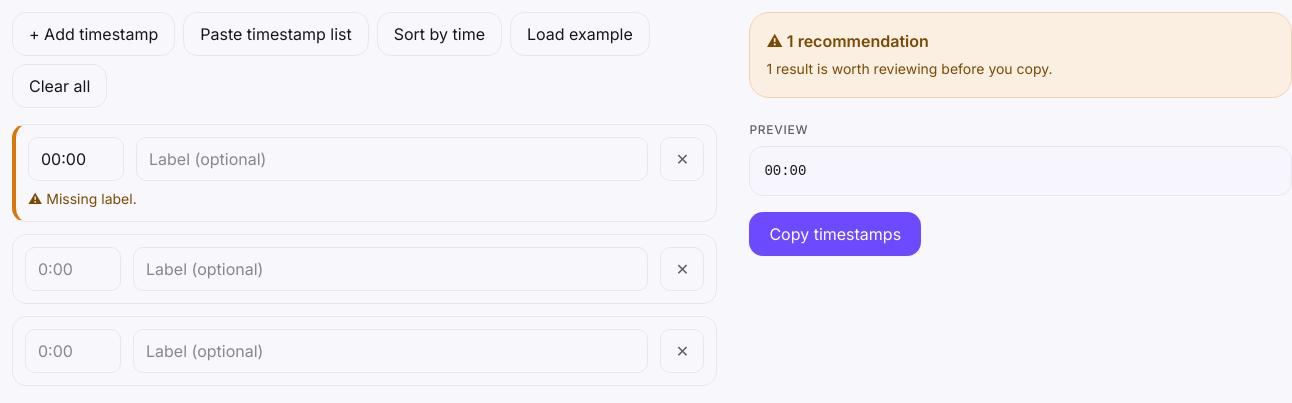
Test: YoutubeTimestampGenerator › removes a row
This screenshot has width=1292, height=403.
Click the button named "Remove row 3".
click(682, 351)  # box [660, 329, 704, 373]
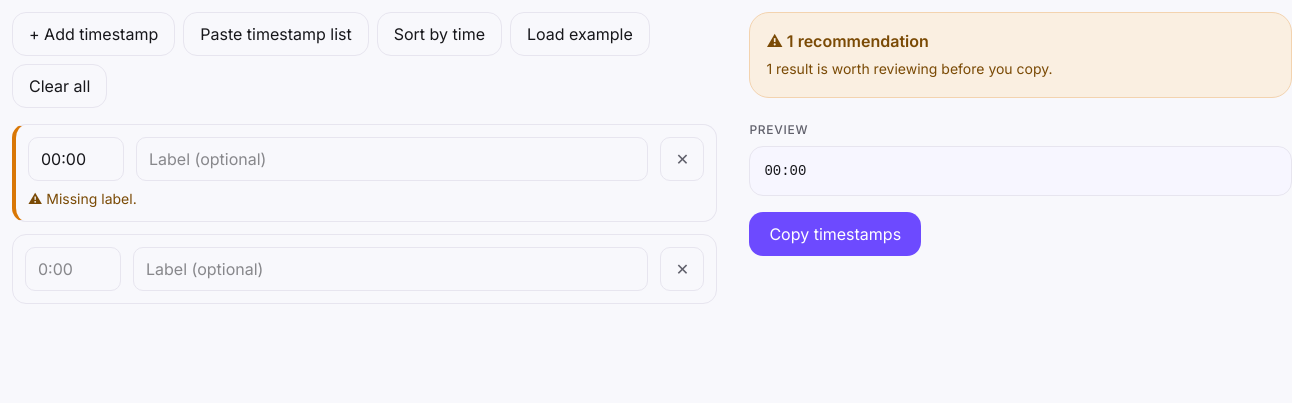
Now the number of list items is 2, box [12, 124, 717, 222]; [12, 234, 717, 304]
